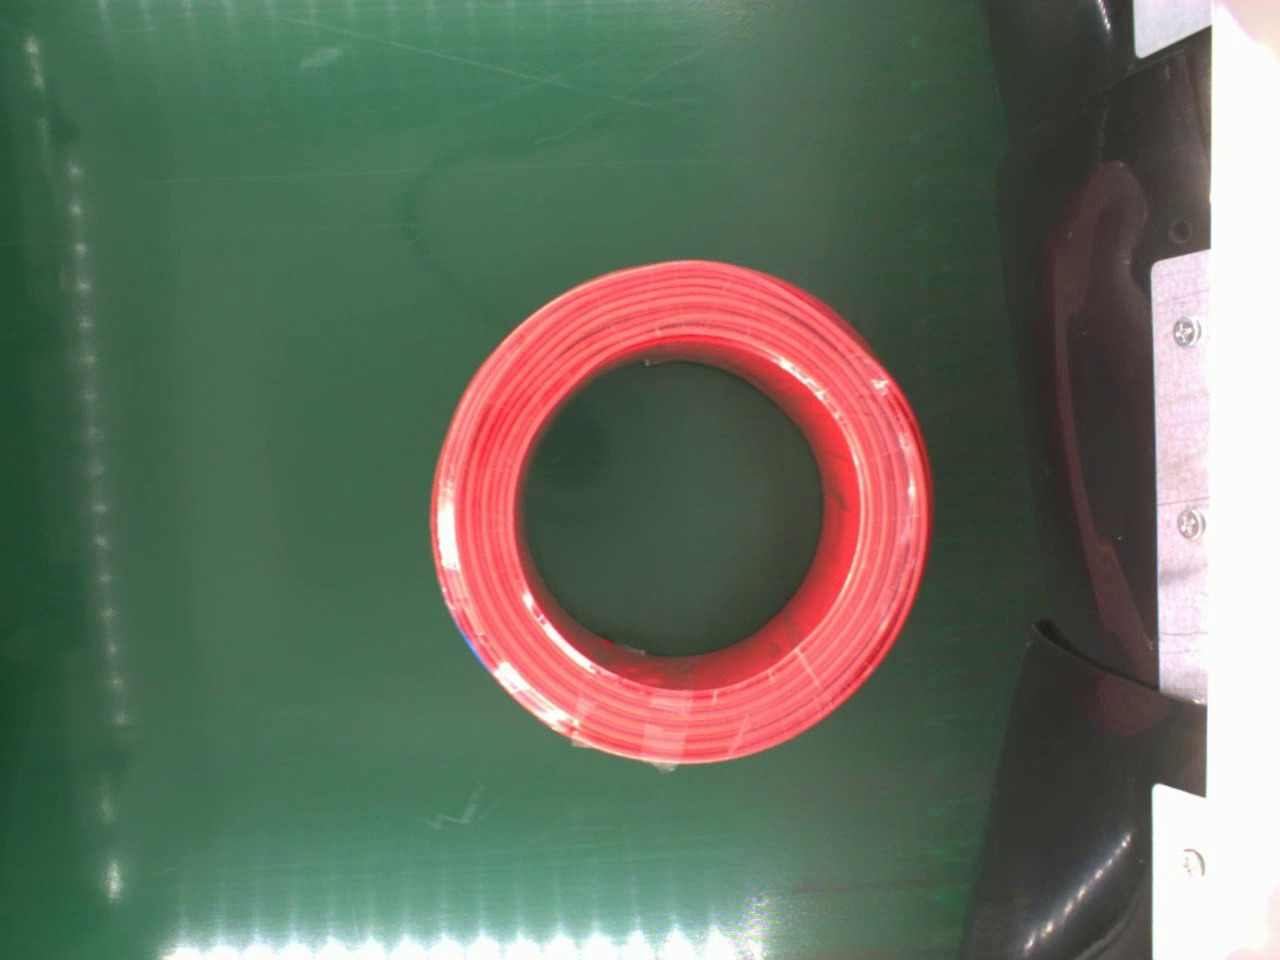red: (427, 252, 933, 774)
